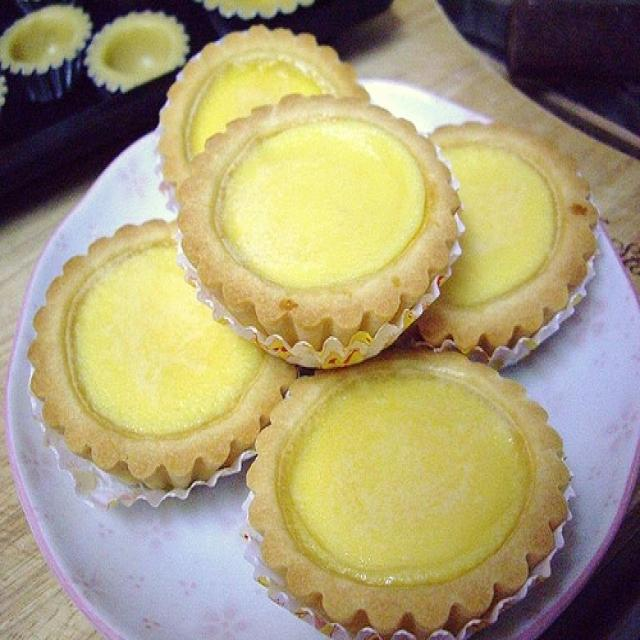炸货点心: (33, 17, 610, 623)
蛋糕甜品: (33, 17, 610, 623)
